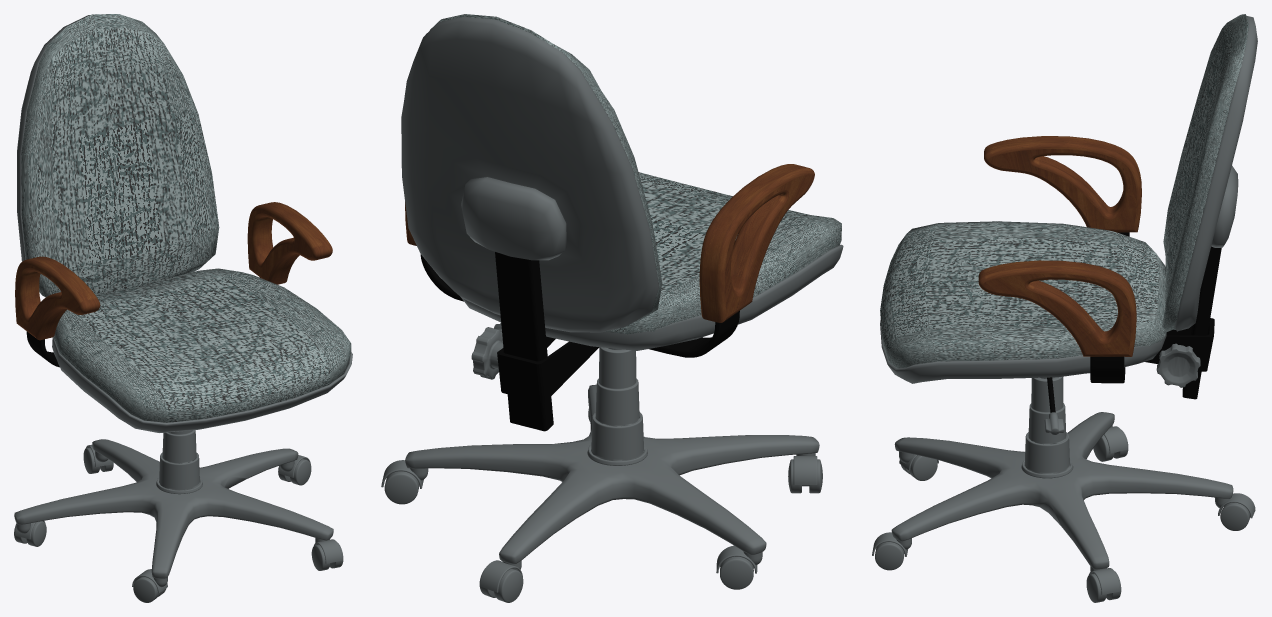
Rendered from chair_gltf.gltf.
3 renders of one model, left to right at view 1: azimuth 30°, elevation 25°; view 2: azimuth 150°, elevation 25°; view 3: azimuth 270°, elevation 25°, orthographic. The views are drawn at different scales.
Visible parts, largest first — view 1: Cube.001, Cube_1, Cylinder, Низ_сидения_2, Выдавливание, Cone, Закругление_1, Закругление_2, Низ_сидения, Шапка_1, Шапка_2, Oil_Tank (+2 smaller); view 2: Низ_сидения, Cylinder, Cube_1, Стойка_спинки, Cone, Низ_сидения_2, Выдавливание, Extrude_NURBS.2, Закругление_1, Cube.001, Шапка_1, Симметрия.1 (+7 smaller); view 3: Cube_1, Cylinder, Cube.001, Низ_сидения, Низ_сидения_2, Закругление_1, Закругление_2, Cone, Выдавливание, Шапка_2, Шапка_1, Стойка_спинки (+8 smaller).
Part boxes in pixels (x1,y1,x2,y2): Cube.001: (21, 14, 219, 297); Cube_1: (53, 268, 351, 422); Cylinder: (14, 439, 333, 578); Низ_сидения_2: (52, 337, 352, 432); Выдавливание: (25, 202, 330, 340); Cone: (156, 430, 202, 494); Закругление_1: (15, 202, 332, 340); Закругление_2: (37, 205, 318, 337); Низ_сидения: (17, 15, 89, 261); Шапка_1: (15, 264, 80, 335); Шапка_2: (248, 210, 312, 280); Oil_Tank: (133, 577, 166, 602); Низ_сидения: (401, 16, 659, 332); Cylinder: (405, 384, 819, 563); Cube_1: (606, 172, 841, 334); Стойка_спинки: (495, 252, 553, 431); Cone: (587, 347, 647, 465); Низ_сидения_2: (460, 244, 843, 350); Выдавливание: (408, 164, 806, 322); Extrude_NURBS.2: (497, 336, 599, 402); Закругление_1: (405, 167, 814, 322); Cube.001: (430, 14, 662, 322); Шапка_1: (724, 174, 813, 317); Симметрия.1: (420, 254, 739, 357); Cube_1: (880, 221, 1166, 368); Cylinder: (891, 412, 1233, 569); Cube.001: (1162, 14, 1248, 331); Низ_сидения: (1175, 16, 1257, 331); Низ_сидения_2: (880, 320, 1166, 383); Закругление_1: (978, 136, 1136, 356); Закругление_2: (980, 142, 1141, 331); Cone: (1021, 376, 1073, 478); Выдавливание: (978, 136, 1141, 337); Шапка_2: (988, 149, 1136, 229); Шапка_1: (983, 273, 1131, 353); Стойка_спинки: (1182, 246, 1221, 399).
Size of the model in its own units: 0.65 by 0.9559 by 0.6646.
Materials: 4 (2 with a texture image).
